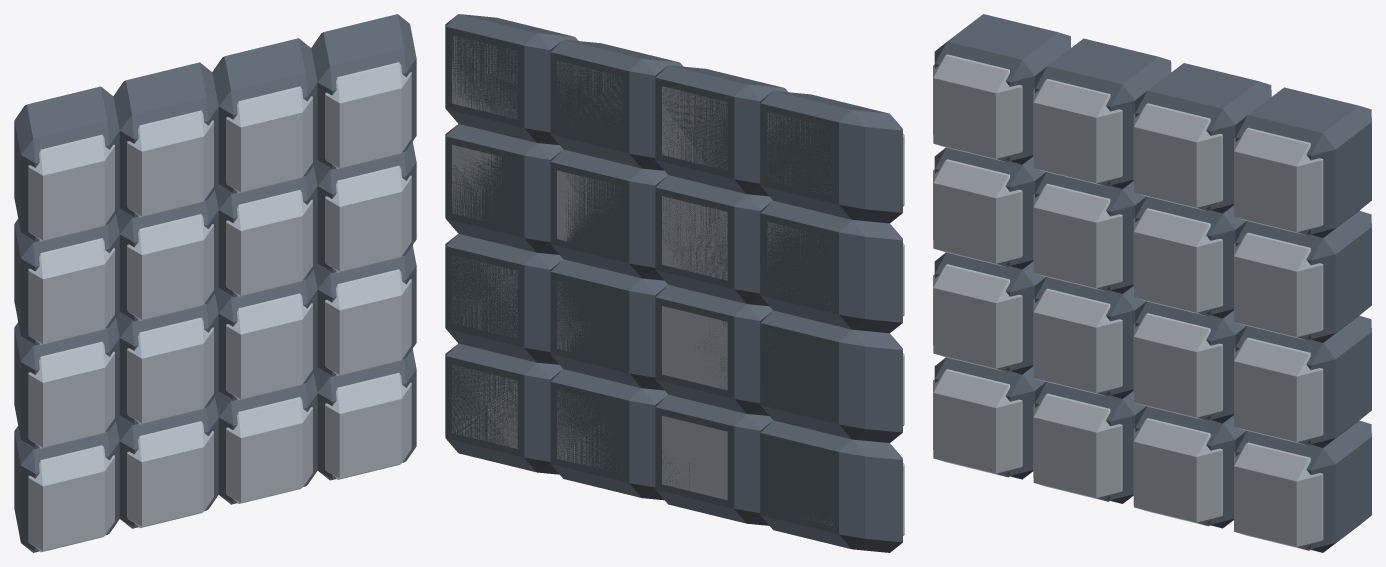
Rendered from Terrain_Block4x4.gltf.
3 renders of one model, left to right at view 1: azimuth 30°, elevation 25°; view 2: azimuth 150°, elevation 25°; view 3: azimuth 330°, elevation 25°, orthographic. The views are drawn at different scales.
Parts seen in each view (by area): view 1: Terrain_Block4x4_baked; view 2: Terrain_Block4x4_baked; view 3: Terrain_Block4x4_baked.
Part boxes in pixels (x1,y1,x2,y2): Terrain_Block4x4_baked: (14, 14, 416, 552); Terrain_Block4x4_baked: (445, 14, 904, 552); Terrain_Block4x4_baked: (933, 14, 1371, 552).
Bounding box in the file's own units: 4.15 × 4.15 × 0.7.
